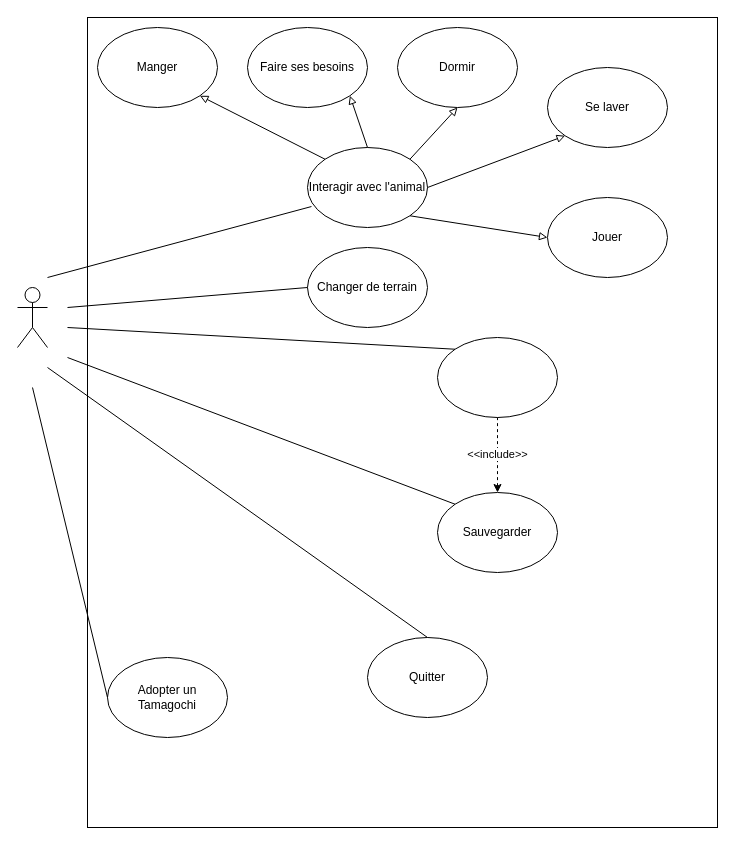
Some shapes in this 735 by 845 pixel diagram are drawn without their labels. The centre of each missing label's shape, as x and y in pixels:
"Charger une sauvegarde" goes at (x=497, y=377).
"User" goes at (x=32, y=317).
